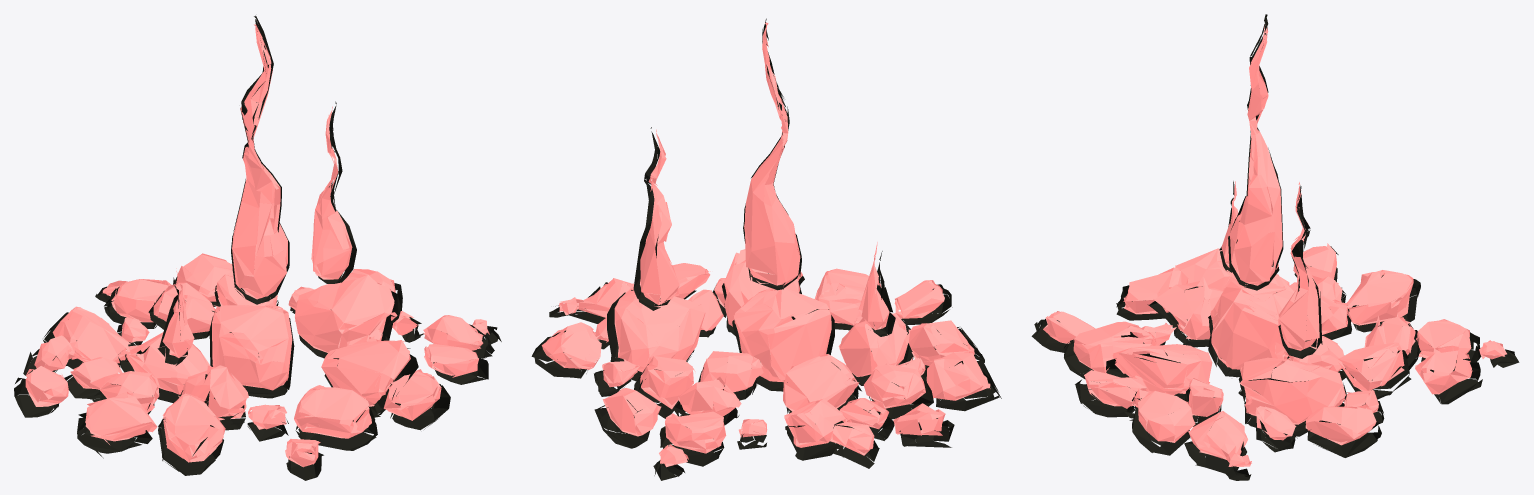
The model's file is df_v2_torch_or_soul_light_d_a.glb.
3 renders of one model, left to right at view 1: azimuth 30°, elevation 25°; view 2: azimuth 150°, elevation 25°; view 3: azimuth 270°, elevation 25°, orthographic. The views are drawn at different scales.
Parts seen in each view (by area): view 1: torch_or_soul_light_d_mesh_01, torch_or_soul_light_d_mesh_01_ink_outline; view 2: torch_or_soul_light_d_mesh_01, torch_or_soul_light_d_mesh_01_ink_outline; view 3: torch_or_soul_light_d_mesh_01, torch_or_soul_light_d_mesh_01_ink_outline.
Part boxes in pixels (left/top/right/bottom): torch_or_soul_light_d_mesh_01: left=25, top=24, right=489, bottom=467; torch_or_soul_light_d_mesh_01_ink_outline: left=14, top=15, right=501, bottom=480; torch_or_soul_light_d_mesh_01: left=541, top=22, right=990, bottom=467; torch_or_soul_light_d_mesh_01_ink_outline: left=531, top=18, right=1001, bottom=480; torch_or_soul_light_d_mesh_01: left=1043, top=25, right=1506, bottom=466; torch_or_soul_light_d_mesh_01_ink_outline: left=1031, top=14, right=1519, bottom=480.
Bounding box in the file's own units: 0.8416 × 0.6781 × 0.8231.
